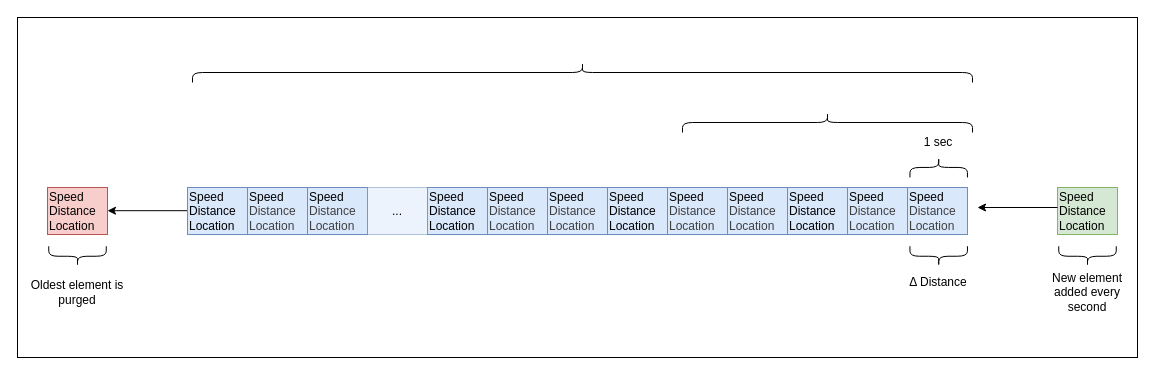
Image size: 1155x375. Some labels were removed from this diagram. Here are the shapes that lost their labels. From the top down, the centre of each, then its label:
the point at 582,72: Serie
the point at 827,122: Section
